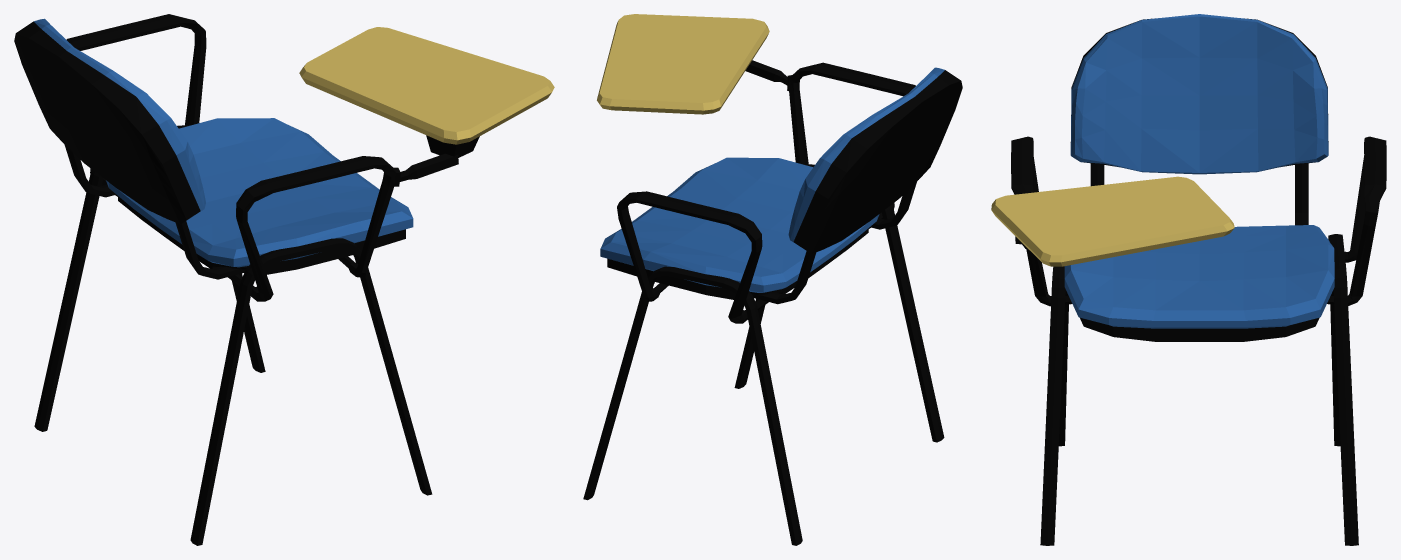
File: Chair_03.obj
The picture shows the model from 3 angles, left to right: view 1: azimuth 30°, elevation 25°; view 2: azimuth 150°, elevation 25°; view 3: azimuth 270°, elevation 25°; orthographic projection. The views are drawn at different scales.
Parts seen in each view (by area): view 1: polster_Datablock.001; view 2: polster_Datablock.001; view 3: polster_Datablock.001.
Part boxes in pixels (left/top/right/bottom): polster_Datablock.001: left=14, top=14, right=554, bottom=545; polster_Datablock.001: left=583, top=14, right=962, bottom=545; polster_Datablock.001: left=991, top=14, right=1386, bottom=545.
Size of the model in its own units: 1.64 by 1.71 by 1.5.
